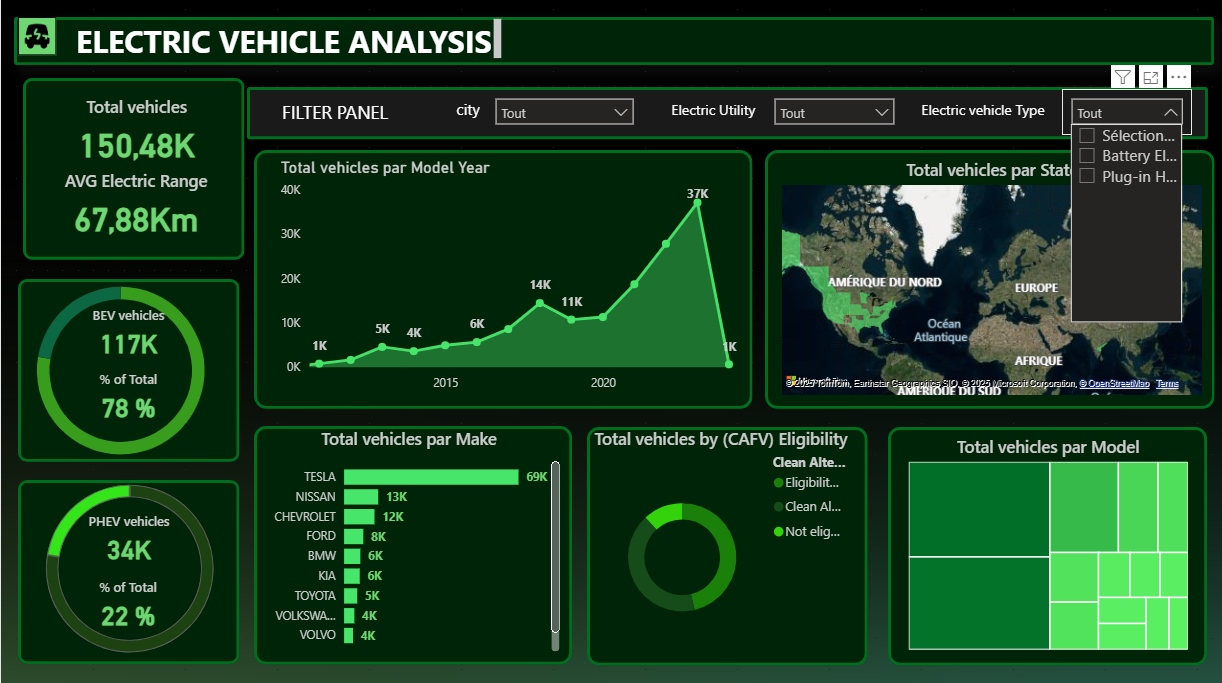

Layout of this report page (visuals, bound fields, positions):
{"tool":"powerbi","page":{"name":"Page 1","canvas":[1280,720],"ordinal":0},"visuals":[{"type":"shape","box":[13.9,23.7,1252.2,50.1],"z":0},{"type":"textbox","box":[73.5,21.3,453.9,52.1],"z":1000},{"type":"shape","box":[22.5,87.7,231.1,189.6],"z":2000},{"type":"card","title":"Total vehicles","fields":{"Values":["Electric_Vehicle_Population_Data.Total vehicles"]},"box":[47.3,105.7,189.2,76.5],"z":3000},{"type":"card","title":"AVG Electric Range","fields":{"Values":["Electric_Vehicle_Population_Data.AVG Range"]},"box":[39,182.3,204.5,76.5],"z":4000},{"type":"shape","box":[17.8,297.5,231.1,190.8],"z":5000},{"type":"shape","box":[17.8,507.3,231.1,192],"z":6000},{"type":"donutChart","fields":{"Category":["Electric_Vehicle_Population_Data.Electric Vehicle Type"],"Y":["Electric_Vehicle_Population_Data.Total vehicles"]},"box":[4.7,278.5,239.4,228.7],"z":7000},{"type":"card","title":"BEV vehicles","fields":{"Values":["Electric_Vehicle_Population_Data.BEV Vehicles"]},"box":[73.5,327.1,119.7,58.1],"z":8000},{"type":"card","title":"% of Total","fields":{"Values":["Electric_Vehicle_Population_Data.% of BEV"]},"box":[73.5,393.5,119.7,58.1],"z":9000},{"type":"donutChart","fields":{"Category":["Electric_Vehicle_Population_Data.Electric Vehicle Type"],"Y":["Electric_Vehicle_Population_Data.Total vehicles"]},"box":[14.2,484.7,239.4,228.7],"z":10000},{"type":"card","title":"PHEV vehicles","fields":{"Values":["Electric_Vehicle_Population_Data.PHEV Vehicles"]},"box":[64,541.6,139.9,58.1],"z":11000},{"type":"card","title":"% of Total","fields":{"Values":["Electric_Vehicle_Population_Data.% of PHEV"]},"box":[62.8,610.4,139.9,58.1],"z":12000},{"type":"shape","box":[257.2,97.2,1002.7,54.5],"z":13000},{"type":"shape","box":[264.3,162.4,520.3,270.2],"z":14000},{"type":"areaChart","fields":{"Category":["Electric_Vehicle_Population_Data.Model Year"],"Y":["Electric_Vehicle_Population_Data.Total vehicles"]},"box":[286.8,170.7,490.7,252.4],"z":15000},{"type":"shape","box":[797.6,162.4,469.3,270.2],"z":16000},{"type":"filledMap","fields":{"Category":["Electric_Vehicle_Population_Data.State"]},"box":[809.5,170.7,449.2,252.4],"z":17000},{"type":"shape","box":[264.3,450.4,331.9,248.9],"z":18000},{"type":"barChart","fields":{"Category":["Electric_Vehicle_Population_Data.Make"],"Y":["Electric_Vehicle_Population_Data.Total vehicles"]},"box":[264.3,451.6,323.6,239.4],"z":19000},{"type":"shape","box":[611.6,451.6,292.7,248.9],"z":20000},{"type":"donutChart","title":"Total vehicles by (CAFV) Eligibility","fields":{"Category":["Electric_Vehicle_Population_Data.Clean Alternative Fuel Vehicle (CAFV) Eligibility"],"Y":["Electric_Vehicle_Population_Data.Total vehicles"]},"box":[611.6,451.6,279.7,248.9],"z":21000},{"type":"shape","box":[925.6,451.6,333,248.9],"z":21001},{"type":"treemap","fields":{"Group":["Electric_Vehicle_Population_Data.Model"],"Values":["Electric_Vehicle_Population_Data.Total vehicles"]},"box":[942.2,459.9,301,228.7],"z":21002},{"type":"textbox","box":[286.8,105.5,123.3,35.6],"z":21003},{"type":"slicer","fields":{"Values":["Electric_Vehicle_Population_Data.City"]},"box":[506.1,99.6,163.6,47.4],"z":21004},{"type":"textbox","box":[463.4,104.3,48.6,36.7],"z":21005},{"type":"textbox","box":[688.6,105.5,109,30.8],"z":21006},{"type":"slicer","fields":{"Values":["Electric_Vehicle_Population_Data.Electric Utility"]},"box":[797.6,99.6,144.6,47.4],"z":21007},{"type":"slicer","fields":{"Values":["Electric_Vehicle_Population_Data.Electric Vehicle Type"]},"box":[1107,99.6,136.3,47.4],"z":21008},{"type":"textbox","box":[942.2,105.5,164.7,30.8],"z":21009},{"type":"image","box":[17.8,23.7,40,40],"z":21010}]}

Visuals, with their boxes on the page's 1280x720 design canvas (x1, y1, x2, y2). These are canvas units, not pixel positions in the 1222x683 screenshot, which may show the page scaled, cropped or inside an application window:
shape: x1=14, y1=24, x2=1266, y2=74
textbox: x1=74, y1=21, x2=527, y2=73
shape: x1=22, y1=88, x2=254, y2=277
"Total vehicles" card: x1=47, y1=106, x2=236, y2=182
"AVG Electric Range" card: x1=39, y1=182, x2=244, y2=259
shape: x1=18, y1=298, x2=249, y2=488
shape: x1=18, y1=507, x2=249, y2=699
donutChart - Electric_Vehicle_Population_Data.Electric Vehicle Type x Electric_Vehicle_Population_Data.Total vehicles: x1=5, y1=278, x2=244, y2=507
"BEV vehicles" card: x1=74, y1=327, x2=193, y2=385
"% of Total" card: x1=74, y1=394, x2=193, y2=452
donutChart - Electric_Vehicle_Population_Data.Electric Vehicle Type x Electric_Vehicle_Population_Data.Total vehicles: x1=14, y1=485, x2=254, y2=713
"PHEV vehicles" card: x1=64, y1=542, x2=204, y2=600
"% of Total" card: x1=63, y1=610, x2=203, y2=668
shape: x1=257, y1=97, x2=1260, y2=152
shape: x1=264, y1=162, x2=785, y2=433
areaChart - Electric_Vehicle_Population_Data.Model Year x Electric_Vehicle_Population_Data.Total vehicles: x1=287, y1=171, x2=778, y2=423
shape: x1=798, y1=162, x2=1267, y2=433
filledMap - Electric_Vehicle_Population_Data.State: x1=810, y1=171, x2=1259, y2=423
shape: x1=264, y1=450, x2=596, y2=699
barChart - Electric_Vehicle_Population_Data.Make x Electric_Vehicle_Population_Data.Total vehicles: x1=264, y1=452, x2=588, y2=691
shape: x1=612, y1=452, x2=904, y2=700
"Total vehicles by (CAFV) Eligibility" donutChart: x1=612, y1=452, x2=891, y2=700
shape: x1=926, y1=452, x2=1259, y2=700
treemap - Electric_Vehicle_Population_Data.Model x Electric_Vehicle_Population_Data.Total vehicles: x1=942, y1=460, x2=1243, y2=689
textbox: x1=287, y1=106, x2=410, y2=141
slicer - Electric_Vehicle_Population_Data.City: x1=506, y1=100, x2=670, y2=147
textbox: x1=463, y1=104, x2=512, y2=141
textbox: x1=689, y1=106, x2=798, y2=136
slicer - Electric_Vehicle_Population_Data.Electric Utility: x1=798, y1=100, x2=942, y2=147
slicer - Electric_Vehicle_Population_Data.Electric Vehicle Type: x1=1107, y1=100, x2=1243, y2=147
textbox: x1=942, y1=106, x2=1107, y2=136
image: x1=18, y1=24, x2=58, y2=64
